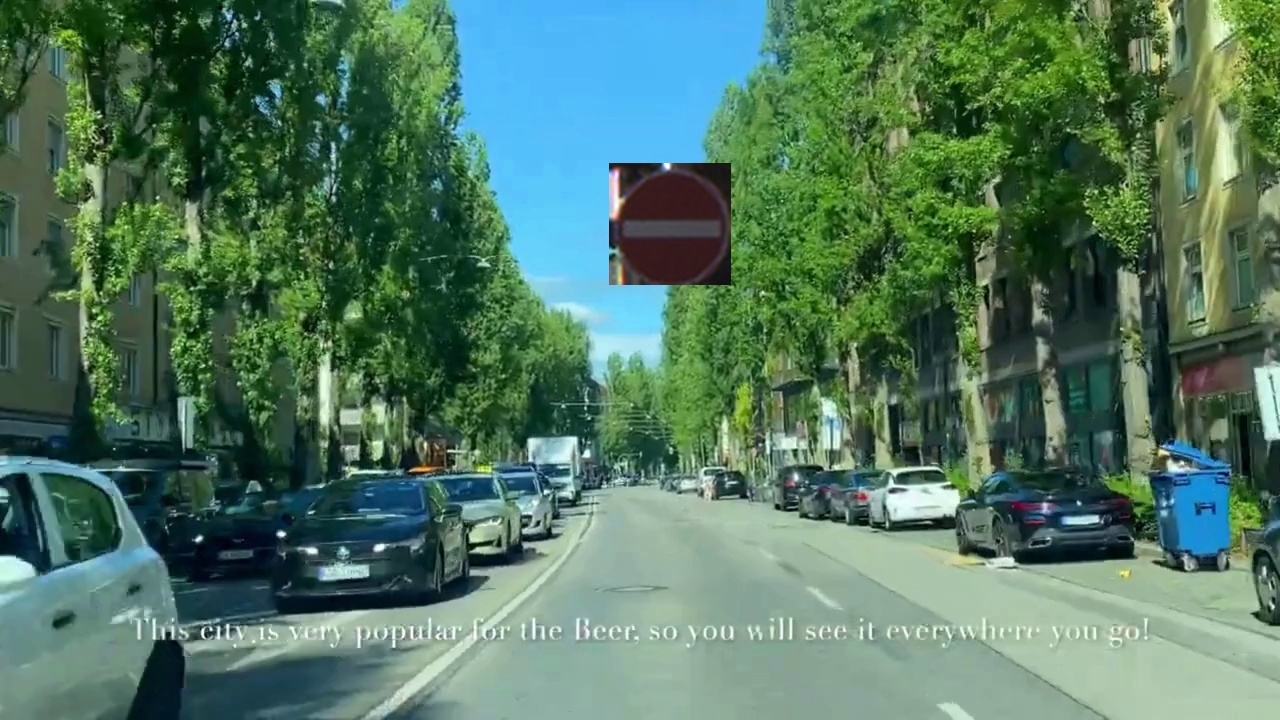No entry: (609, 163, 731, 285)
